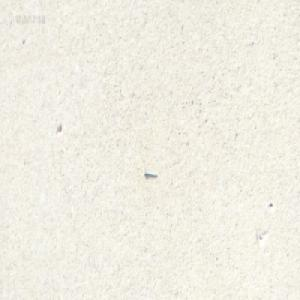Nail: (143, 169, 156, 177)
